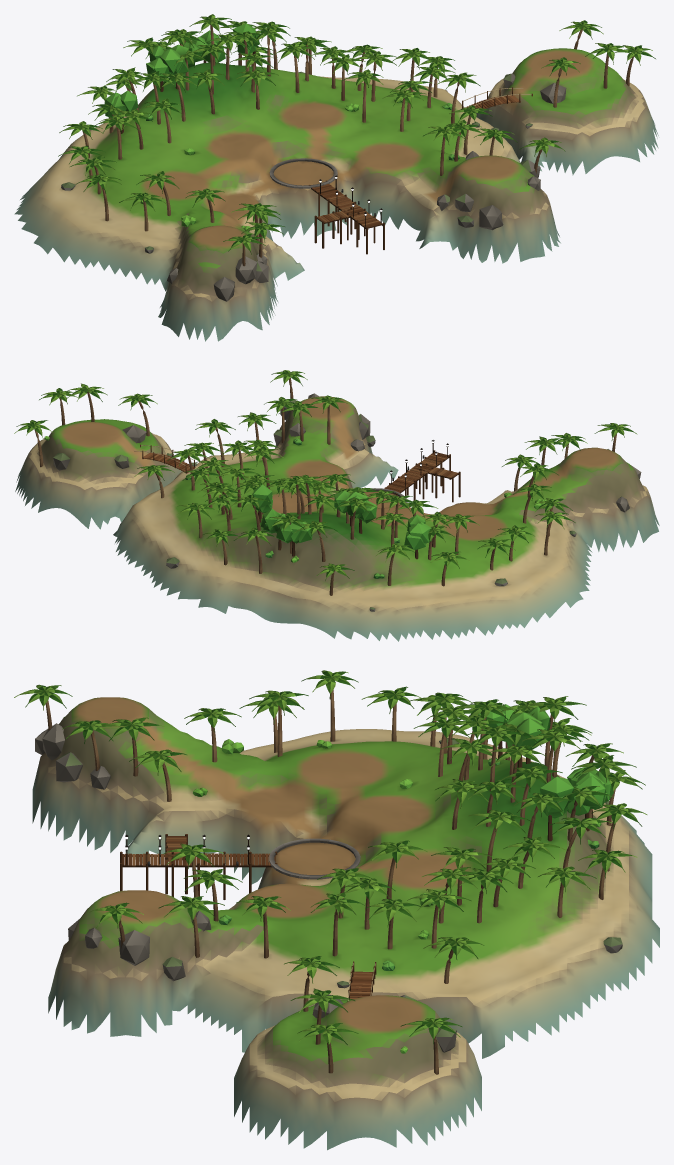
The model's file is world.glb.
3 renders of one model, top to bottom at view 1: azimuth 30°, elevation 25°; view 2: azimuth 150°, elevation 25°; view 3: azimuth 270°, elevation 25°, orthographic. The views are drawn at different scales.
Parts seen in each view (by area): view 1: terrain, world, bridge; view 2: terrain, world, bridge; view 3: terrain, world, bridge.
Boxes of the visible parts, <box> form: terrain: <box>14,48,658,341</box>; world: <box>58,14,655,301</box>; bridge: <box>462,87,532,109</box>; terrain: <box>15,396,659,641</box>; world: <box>14,370,641,611</box>; bridge: <box>134,444,195,473</box>; terrain: <box>32,697,659,1150</box>; world: <box>14,670,647,1074</box>; bridge: <box>347,961,376,1001</box>.
Bounding box in the file's own units: 84 × 18.13 × 58.4.
